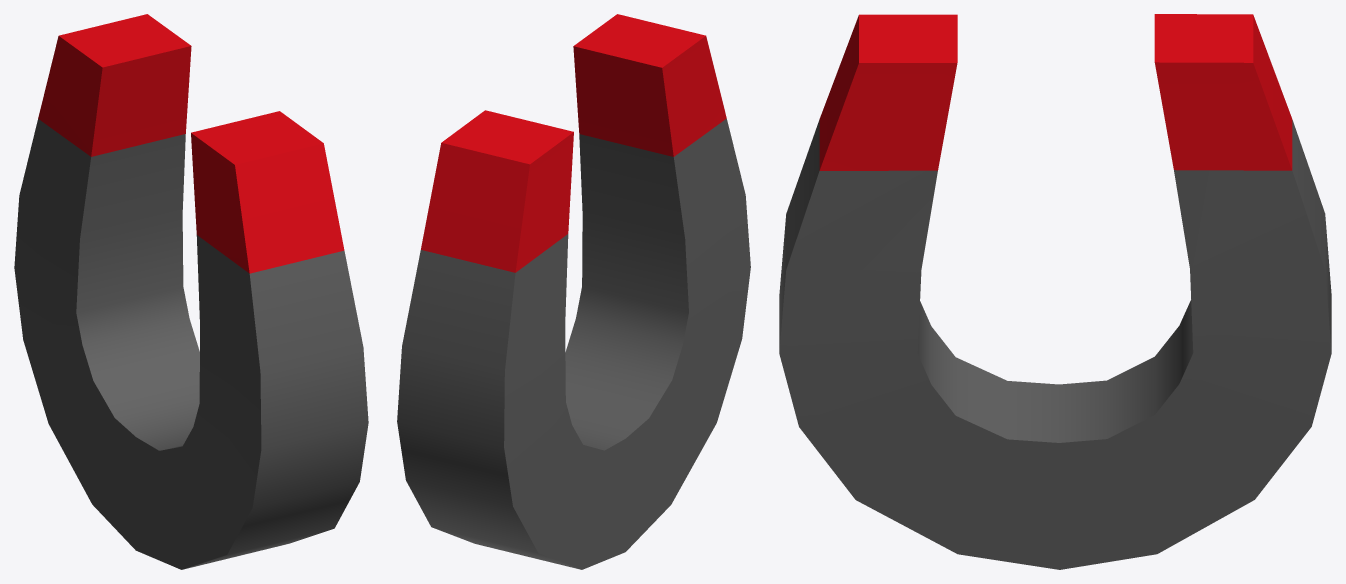
File: Magnet.FBX
The picture shows the model from 3 angles, left to right: view 1: azimuth 30°, elevation 25°; view 2: azimuth 150°, elevation 25°; view 3: azimuth 270°, elevation 25°; orthographic projection. The views are drawn at different scales.
Parts seen in each view (by area): view 1: pCube1; view 2: pCube1; view 3: pCube1.
Boxes of the visible parts, x1,y1,x2,y2 form: pCube1: (14, 14, 368, 569); pCube1: (397, 14, 750, 569); pCube1: (779, 14, 1331, 569).
Bounding box in the file's own units: 4.43 × 17.74 × 17.67.
